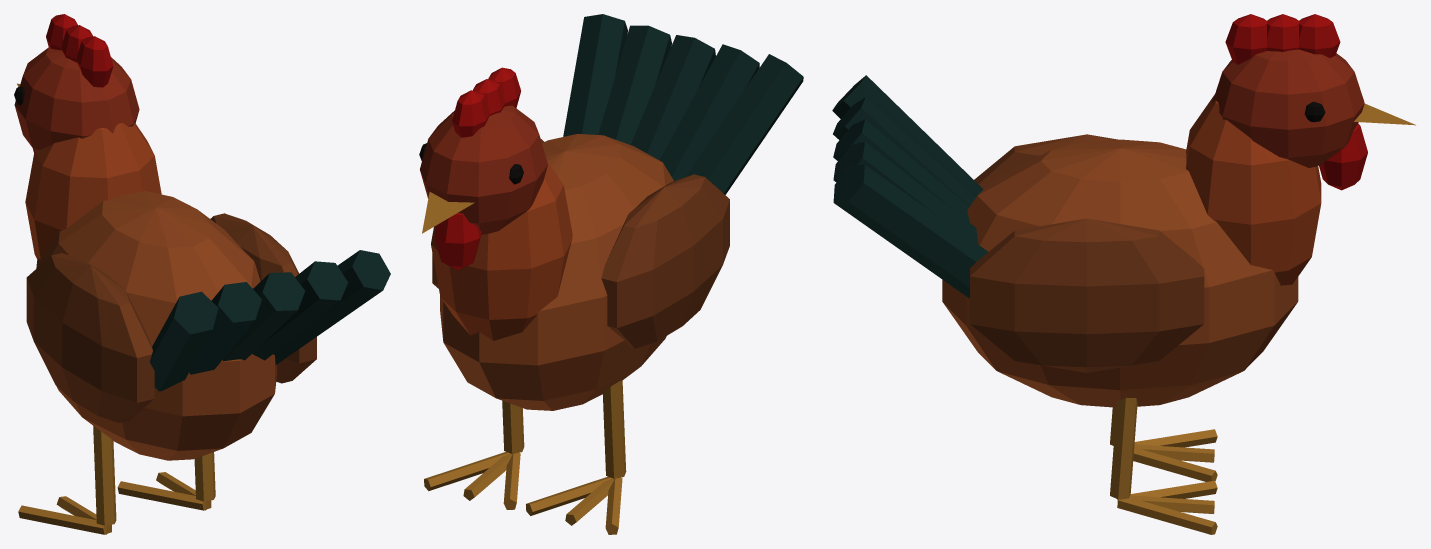
The model's file is rooster.glb.
3 views of the same model, side by side, from view 1: azimuth 30°, elevation 25°; view 2: azimuth 150°, elevation 25°; view 3: azimuth 270°, elevation 25° (orthographic). The views are drawn at different scales.
Visible parts, largest first — view 1: rooster; view 2: rooster; view 3: rooster.
Boxes of the visible parts, <box> form: rooster: <box>14,14,390,534</box>; rooster: <box>419,14,803,534</box>; rooster: <box>832,14,1415,534</box>.
Bounding box in the file's own units: 2.43 × 4.73 × 5.28.
